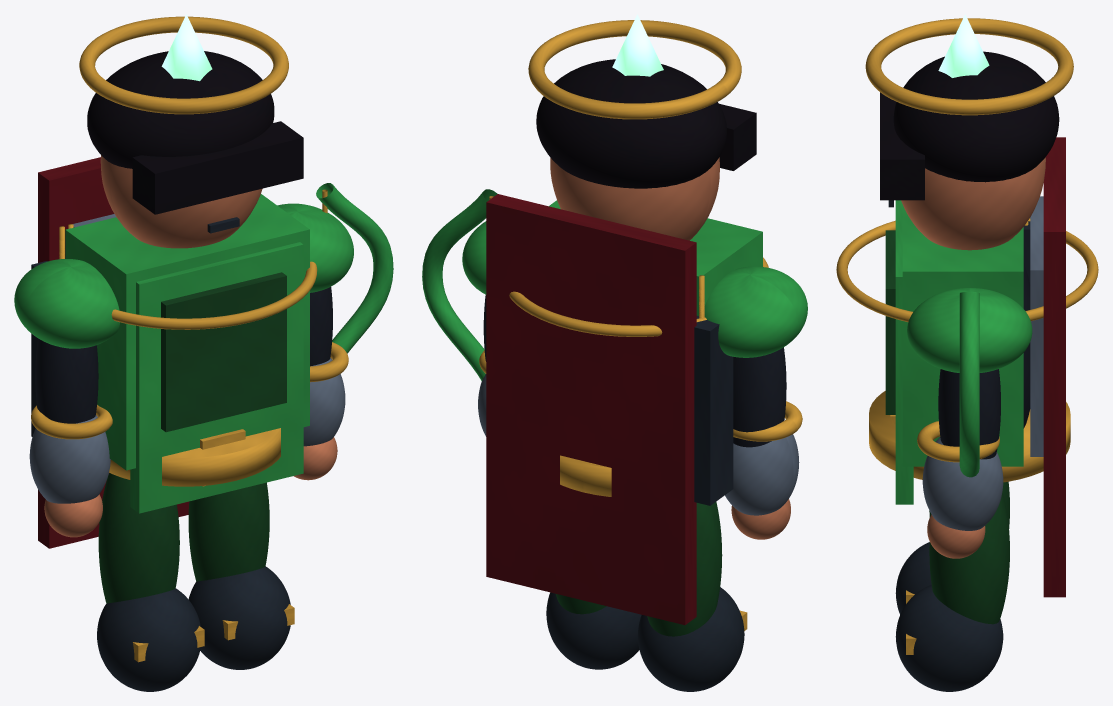
File: Mastery.glb
3 views of the same model, side by side, from view 1: azimuth 30°, elevation 25°; view 2: azimuth 150°, elevation 25°; view 3: azimuth 270°, elevation 25° (orthographic). The views are drawn at different scales.
Parts seen in each view (by area): view 1: ArcherTunic, LeatherChestGuard, ChestPlate, Hair, HairFringe, Boot, Leg, Boot.001, Shoulder, CrownRing, Leg.001, Head (+14 smaller); view 2: Cape, Hair, CrownRing, Shoulder, Head, Quiver, Boot, Boot.001, Gauntlet, Bow, Arm, ChestPlate (+8 smaller); view 3: Hair, ChestPlate, Cape, Head, Boot.001, CrownRing, Shoulder.001, Leg.001, Gauntlet.001, Bow, BackArmor, HairFringe (+10 smaller).
Boxes of the visible parts, x1,y1,x2,y2 form: ArcherTunic: (130,242,303,513); LeatherChestGuard: (161,272,286,432); ChestPlate: (65,194,309,470); Hair: (87,51,274,168); HairFringe: (132,121,303,214); Boot: (97,588,200,691); Leg: (98,473,179,603); Boot.001: (188,566,290,669); Shoulder: (14,259,119,348); CrownRing: (79,16,288,114); Leg.001: (188,482,269,581); Head: (100,155,262,248); Cape: (486,194,696,625); Hair: (536,59,726,188); CrownRing: (528,20,741,119); Shoulder: (704,266,807,357); Head: (550,157,719,240); Quiver: (694,315,733,505); Boot: (637,587,744,691); Boot.001: (546,592,641,669); Gauntlet: (725,434,799,515); Bow: (422,189,497,380); Arm: (733,347,786,447); ChestPlate: (549,200,762,315); Hair: (893,51,1059,182); ChestPlate: (902,205,1023,466); Cape: (1043,137,1065,597); Head: (901,157,1045,250); Boot.001: (895,585,1003,691); CrownRing: (865,18,1073,115); Shoulder.001: (907,288,1032,372); Leg.001: (929,492,1009,624); Gauntlet.001: (922,437,1003,530); Bow: (959,292,979,477); BackArmor: (1030,196,1043,456); HairFringe: (880,92,924,200).
Size of the model in its own units: 1.88 by 3.21 by 1.17.
12 materials, 9 textured.
